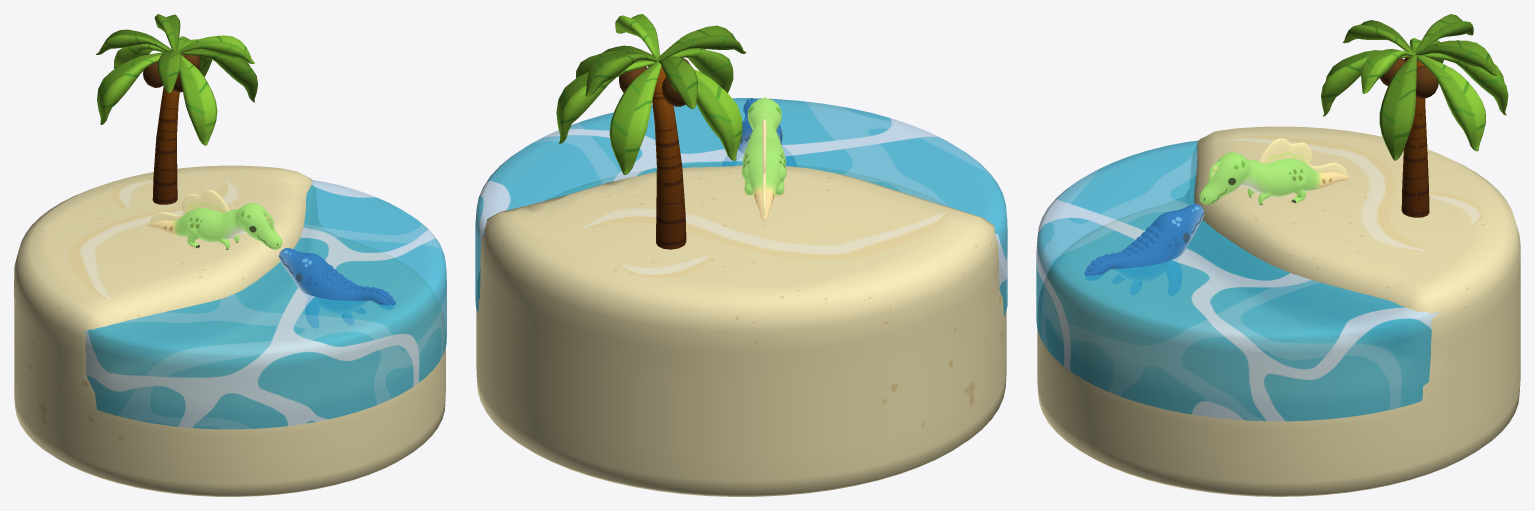
The model's file is Dino.glb.
3 views of the same model, side by side, from view 1: azimuth 30°, elevation 25°; view 2: azimuth 150°, elevation 25°; view 3: azimuth 270°, elevation 25° (orthographic). The views are drawn at different scales.
Parts seen in each view (by area): view 1: Cylinder, Vert, Spino, Vert.001; view 2: Cylinder, Vert, Spino, Vert.001; view 3: Cylinder, Vert, Spino, Vert.001.
Part boxes in pixels (<box>): Cylinder: <box>14,165,446,496</box>; Vert: <box>96,14,257,204</box>; Spino: <box>148,190,282,249</box>; Vert.001: <box>279,248,395,327</box>; Cylinder: <box>475,98,1007,496</box>; Vert: <box>556,14,746,249</box>; Spino: <box>741,97,786,220</box>; Vert.001: <box>722,98,796,166</box>; Cylinder: <box>1036,126,1520,496</box>; Vert: <box>1321,14,1508,217</box>; Spino: <box>1199,138,1349,205</box>; Vert.001: <box>1084,203,1204,295</box>.
Bounding box in the file's own units: 3.34 × 2.78 × 3.34.
5 materials, 5 textured.
